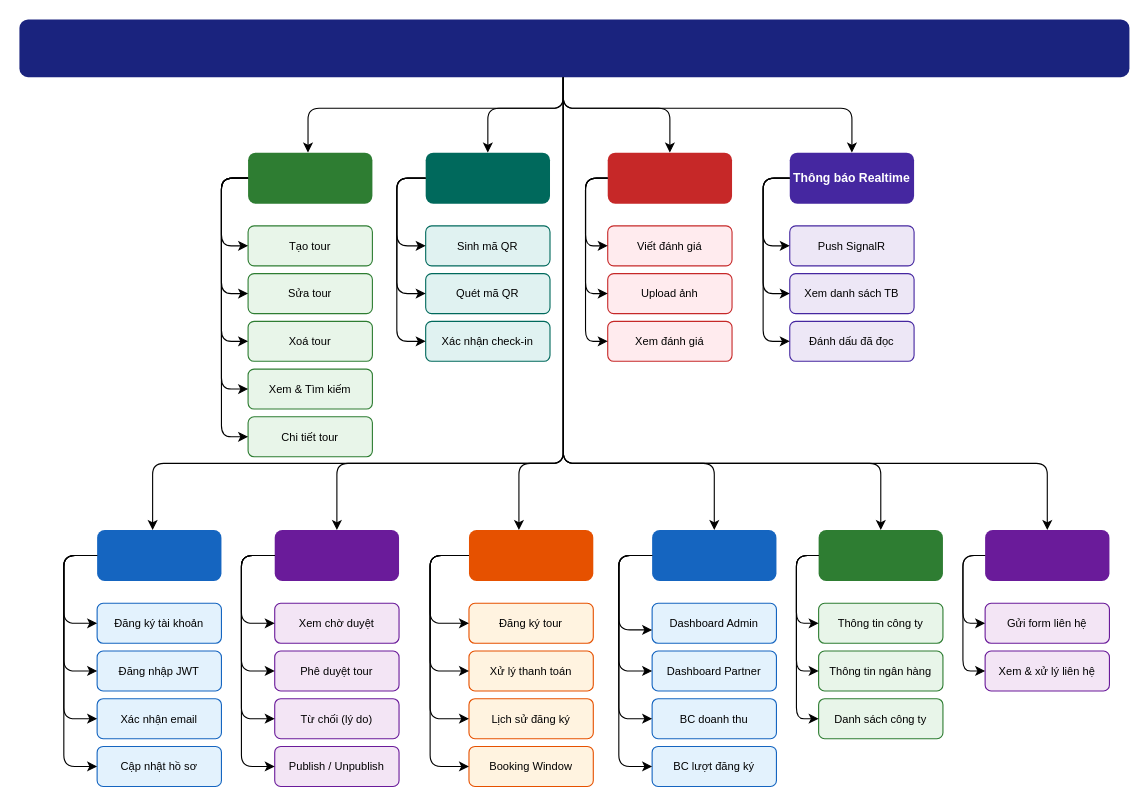
Some shapes in this 1148 by 806 pixel diagram are drawn without their labels. The shapes that lost their labels are listed below. From the top down, each one's centre as x and y in pixels, then its label:
At pixel 574 48: "HỆ THỐNG TURTOUR".
At pixel 310 177: "Quản lý Tour".
At pixel 487 177: "Check-in QR".
At pixel 669 177: "Đánh giá Tour".
At pixel 159 555: "Xác thực & Người dùng".
At pixel 336 555: "Duyệt & Xuất bản".
At pixel 530 555: "Đăng ký & Thanh toán".
At pixel 714 555: "Báo cáo & Thống kê".
At pixel 880 555: "Quản lý Công ty".
At pixel 1047 555: "Liên hệ & Hỗ trợ".
